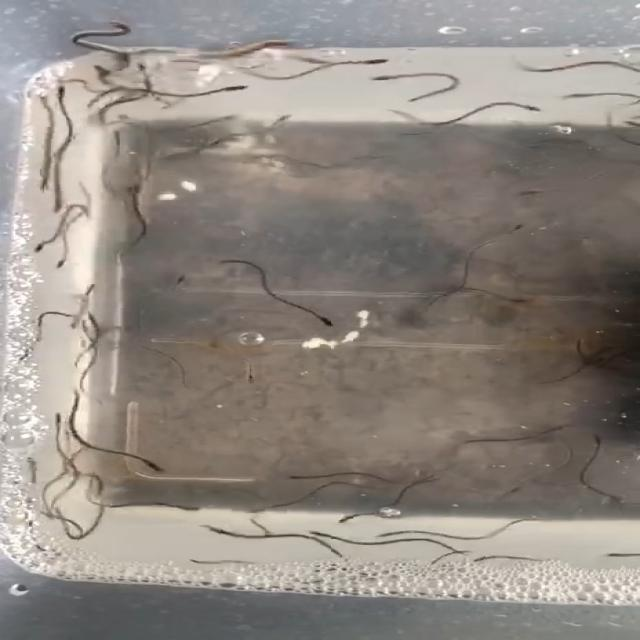inactive_glass_eel: (341, 55, 395, 69), (195, 523, 242, 539), (501, 102, 551, 117), (511, 181, 555, 198), (95, 18, 134, 36), (16, 455, 45, 478), (498, 292, 534, 310), (166, 498, 206, 513), (132, 458, 165, 476), (277, 470, 314, 486), (253, 35, 292, 50), (310, 310, 342, 328), (83, 61, 108, 84), (541, 420, 576, 436), (51, 80, 72, 106), (232, 365, 260, 384), (589, 428, 611, 452), (603, 546, 640, 560), (357, 72, 399, 84), (242, 504, 287, 515), (26, 240, 56, 256), (262, 115, 290, 132), (299, 527, 339, 538), (13, 346, 36, 365), (553, 89, 590, 100), (503, 222, 528, 238), (52, 414, 71, 434), (376, 528, 410, 539), (218, 83, 249, 94), (326, 515, 360, 525), (173, 275, 195, 289), (53, 253, 69, 271)
